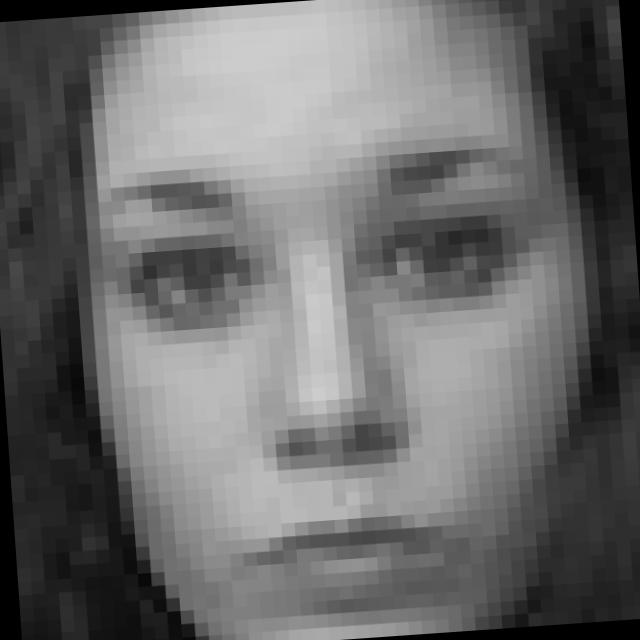neutral: (104, 127, 567, 628)
